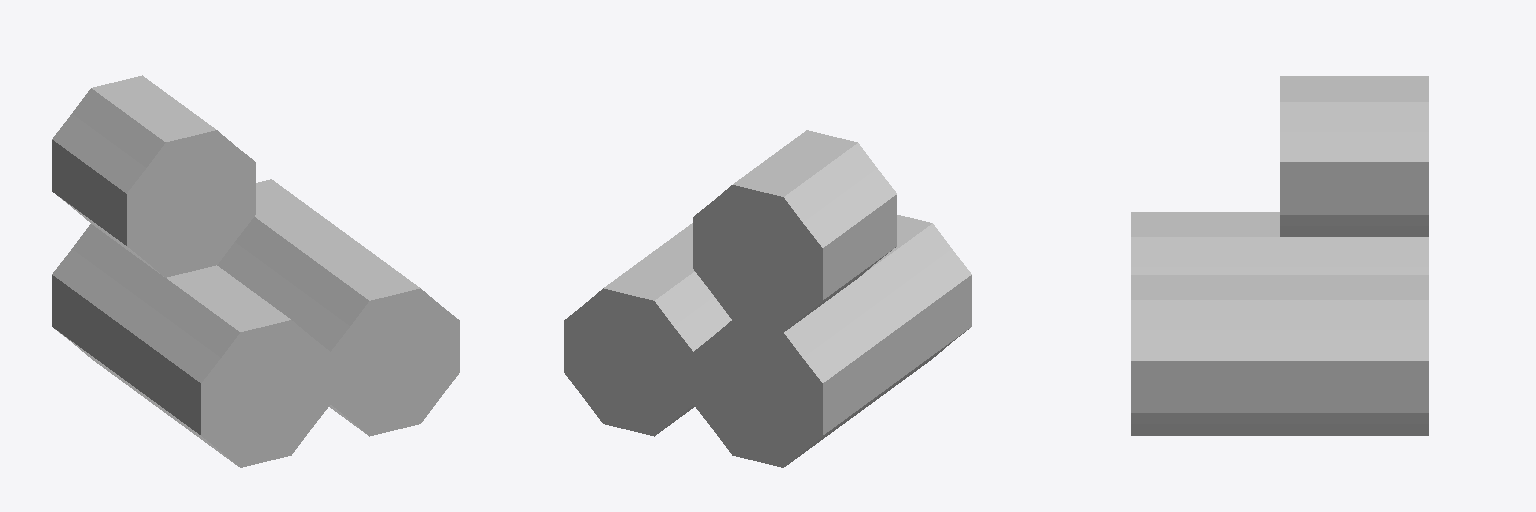
Rendered from log_pile_5.obj.
3 views of the same model, side by side, from view 1: azimuth 30°, elevation 25°; view 2: azimuth 150°, elevation 25°; view 3: azimuth 270°, elevation 25° (orthographic).
Parts seen in each view (by area): view 1: log.003, log.002, log.001, log.004, log; view 2: log.002, log.004, log, log.003; view 3: log, log.001, log.002, log.003, log.004.
Boxes of the visible parts, x1,y1,x2,y2 form: log.003: [127, 265, 330, 467]; log.002: [52, 75, 255, 277]; log.001: [258, 234, 459, 436]; log.004: [52, 224, 164, 412]; log: [217, 179, 345, 294]; log.002: [693, 130, 896, 332]; log.004: [693, 278, 896, 467]; log: [564, 234, 731, 436]; log.003: [859, 215, 971, 412]; log: [1280, 275, 1428, 435]; log.001: [1131, 275, 1279, 435]; log.002: [1280, 76, 1428, 236]; log.003: [1131, 212, 1279, 274]; log.004: [1280, 237, 1428, 274].
Bounding box in the file's own units: 1 × 1 × 1.